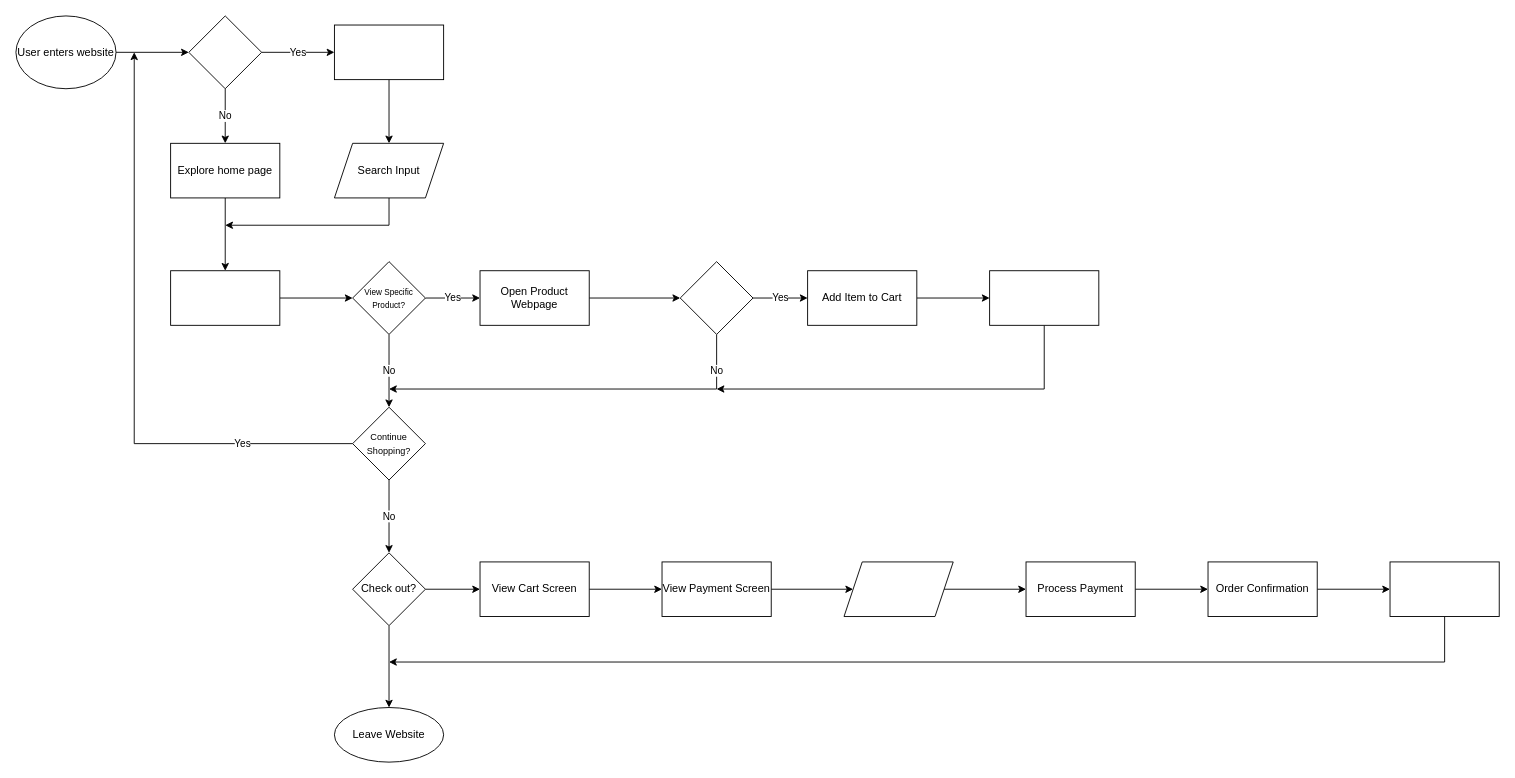
Some shapes in this 1515 by 778 pixel diagram are drawn without their labels. The centre of each missing label's shape, as x and y in pixels:
Add to Cart?: (x=716, y=297)
Email Confirmation: (x=1444, y=589)
Look over products: (x=225, y=297)
Payment Information: (x=898, y=589)
Search for product: (x=389, y=52)
Search?: (x=225, y=52)
View Confirmation 'Added to Cart': (x=1044, y=297)
